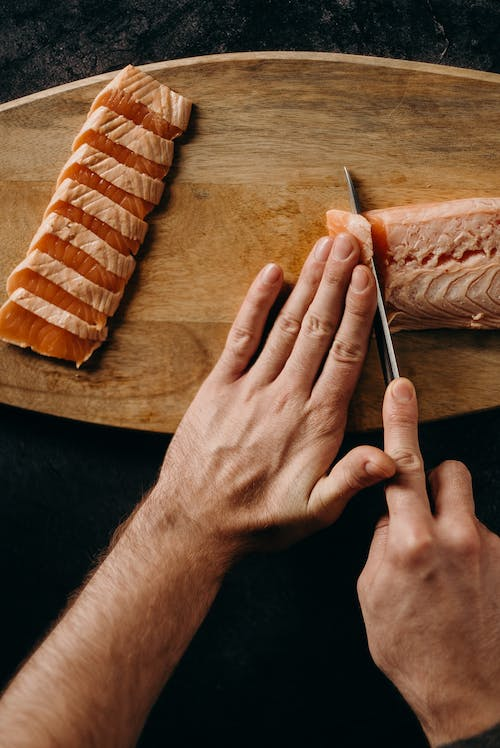knife: (341, 160, 401, 388)
